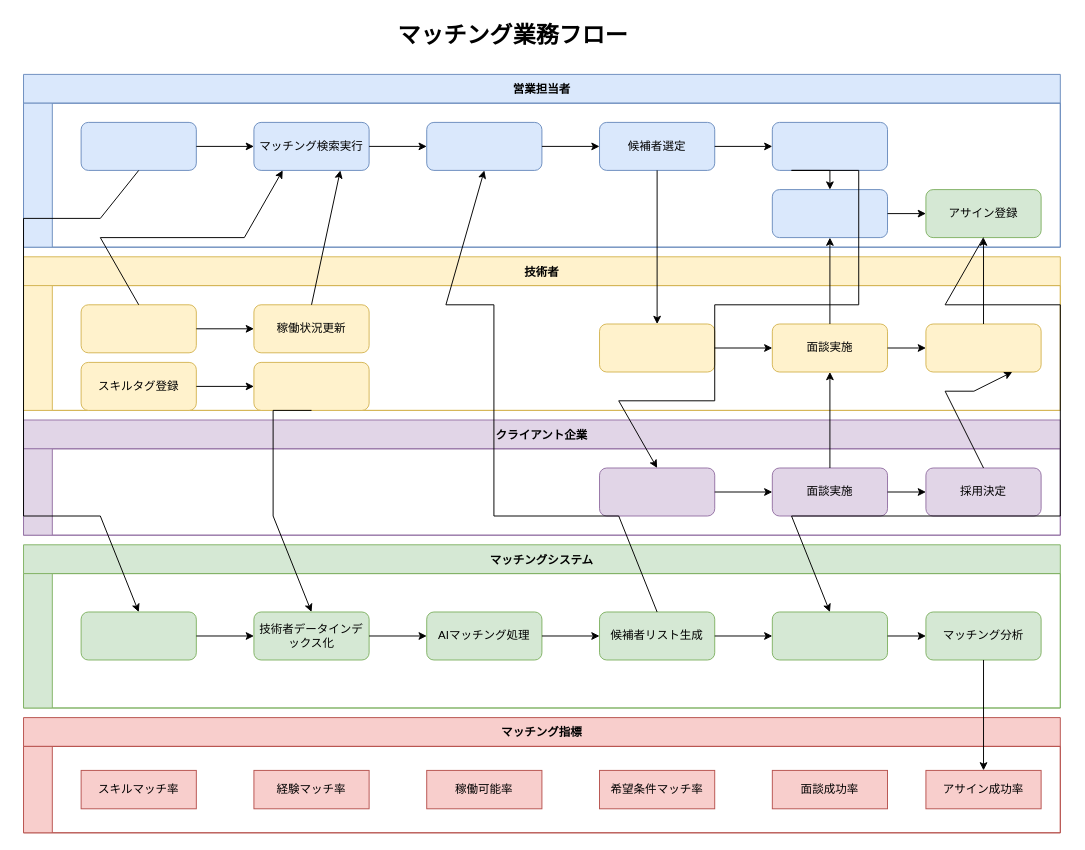
Some shapes in this 1085 by 850 pixel diagram are drawn without their labels. Each missing label, with the box of its shape:
アサイン確定: (925, 323, 1041, 372)
プロフィール更新: (80, 304, 196, 353)
マッチング履歴記録: (771, 611, 888, 660)
マッチング条件分析: (80, 611, 196, 660)
候補者情報受領: (599, 467, 715, 516)
候補者確認: (426, 121, 542, 170)
提案書作成: (771, 121, 888, 170)
案件内容確認: (599, 323, 715, 372)
案件希望条件登録: (253, 361, 369, 410)
案件条件入力: (80, 121, 196, 170)
面談調整: (771, 189, 888, 238)
